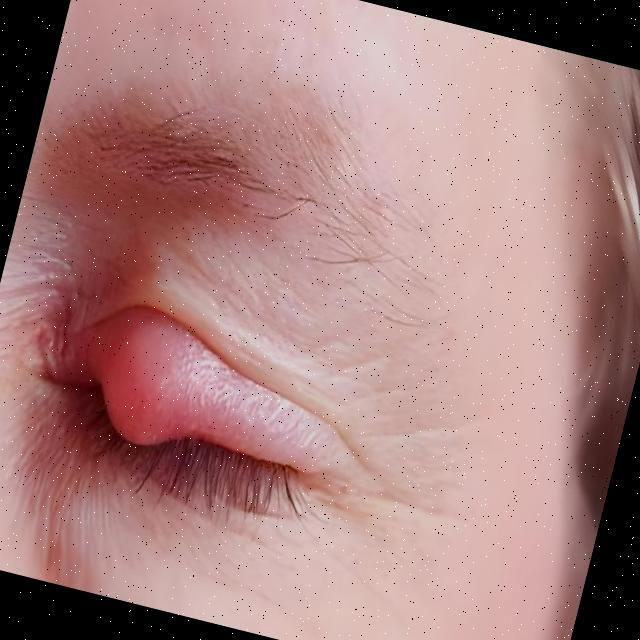Stye: (47, 255, 287, 515)
